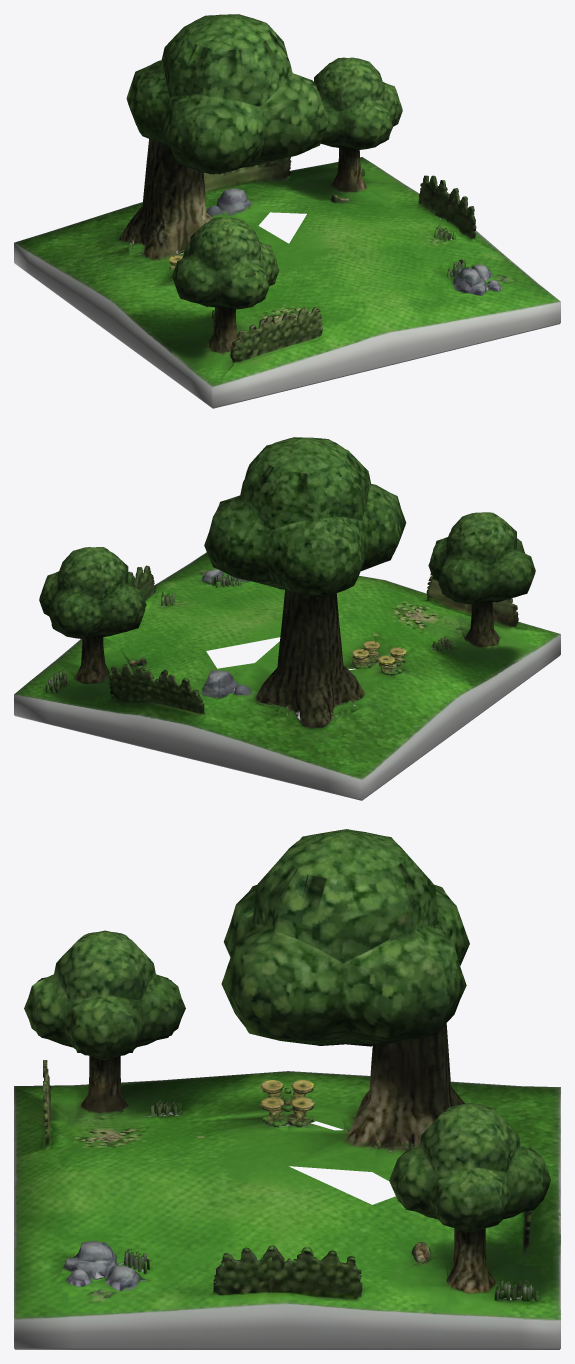
Rendered from map ground.glb.
3 renders of one model, top to bottom at view 1: azimuth 30°, elevation 25°; view 2: azimuth 150°, elevation 25°; view 3: azimuth 270°, elevation 25°, orthographic. The views are drawn at different scales.
Visible parts, largest first — view 1: tripo_node_294df87a-ad4e-45f7-8795-4840436b70b4; view 2: tripo_node_294df87a-ad4e-45f7-8795-4840436b70b4; view 3: tripo_node_294df87a-ad4e-45f7-8795-4840436b70b4.
Boxes of the visible parts, x1,y1,x2,y2 form: tripo_node_294df87a-ad4e-45f7-8795-4840436b70b4: (14,14,560,408); tripo_node_294df87a-ad4e-45f7-8795-4840436b70b4: (14,437,560,800); tripo_node_294df87a-ad4e-45f7-8795-4840436b70b4: (14,829,560,1349).
Bounding box in the file's own units: 0.9784 × 0.7104 × 0.944.
1 material, 1 textured.
